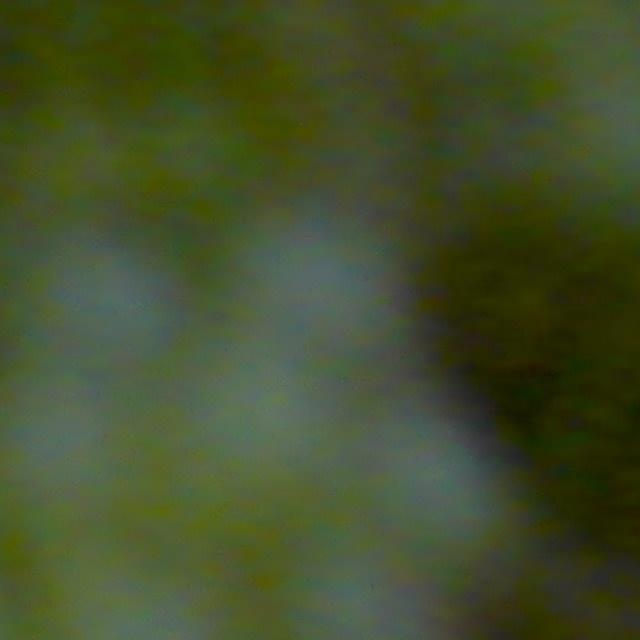SeaGrape: (153, 341, 381, 545), (231, 203, 436, 378), (0, 353, 152, 557), (356, 420, 544, 562), (19, 215, 177, 383)
